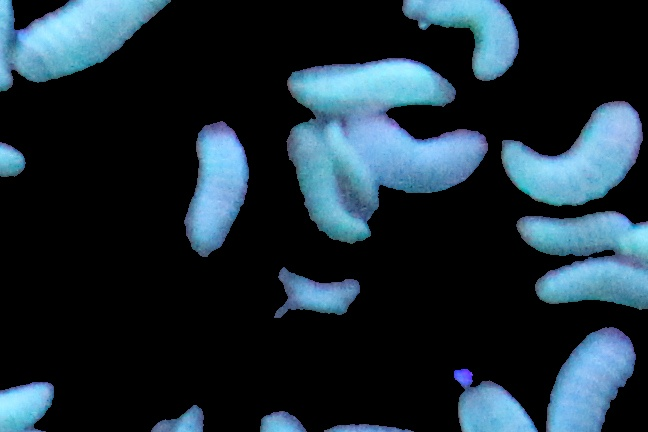larvae: (13, 1, 180, 81), (514, 104, 634, 200), (278, 125, 371, 244), (345, 118, 489, 186), (554, 321, 634, 432), (410, 1, 514, 84), (290, 64, 462, 112), (190, 132, 246, 268), (531, 260, 648, 313), (513, 205, 639, 252), (328, 131, 379, 206), (281, 270, 362, 314), (1, 379, 61, 428)
